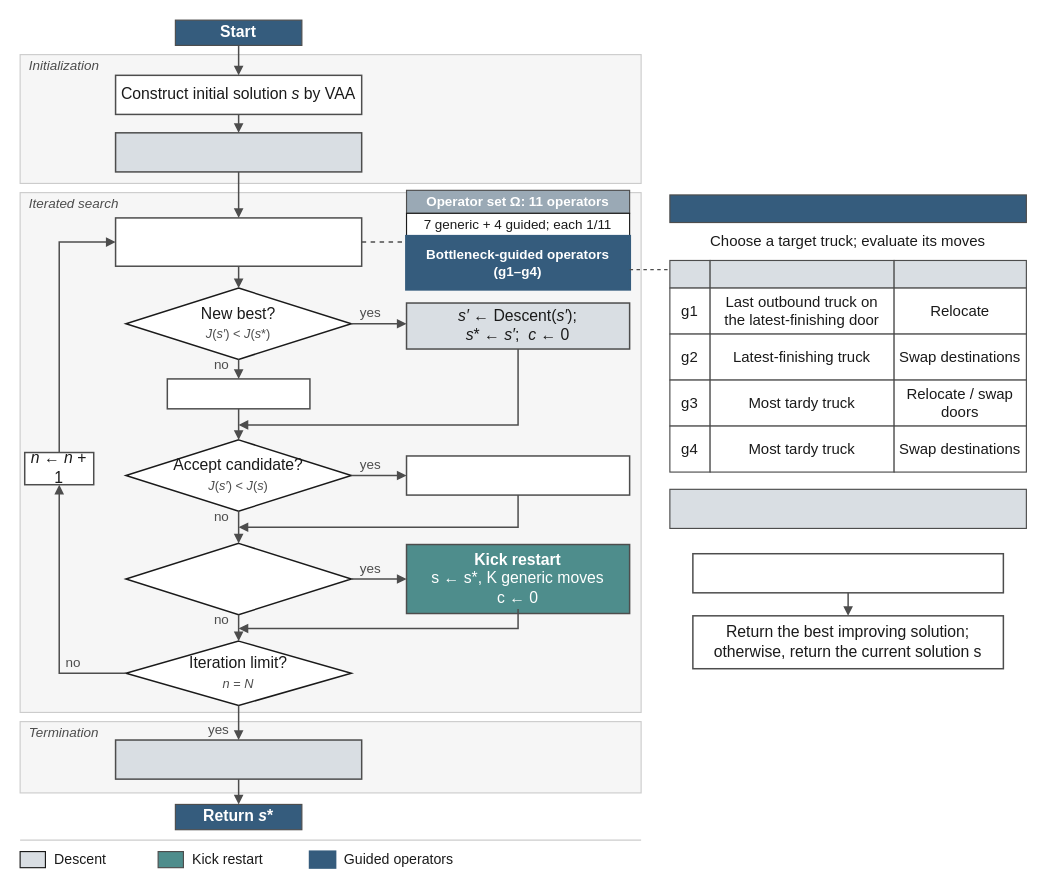
The diagram is 1047 pixels wide and 891 high, and some of its shapes have lost their labels. The centre of each missing label's shape, as x and y in pixels:
"c ← c + 1" belongs at [238,393].
"Evaluate all feasible candidate moves" belongs at [848,572].
"GuidedMove(s, g)" belongs at [847,208].
"Move" belongs at [959,273].
"No tardy truck: g3 → g1; g4 → g2" belongs at [847,508].
"Op." belongs at [689,273].
"s * ← Descent( s *)" belongs at [238,759].
"s ← Descent( s ); s * ← s c ← 0; n ← 1" belongs at [238,152].
"s ← s′" belongs at [517,475].
"Select operator uniformly Generate candidate s′ from s" belongs at [238,241].
"Stagnation limit? c ≥ P" belongs at [238,578].
"Target truck" belongs at [801,273].
